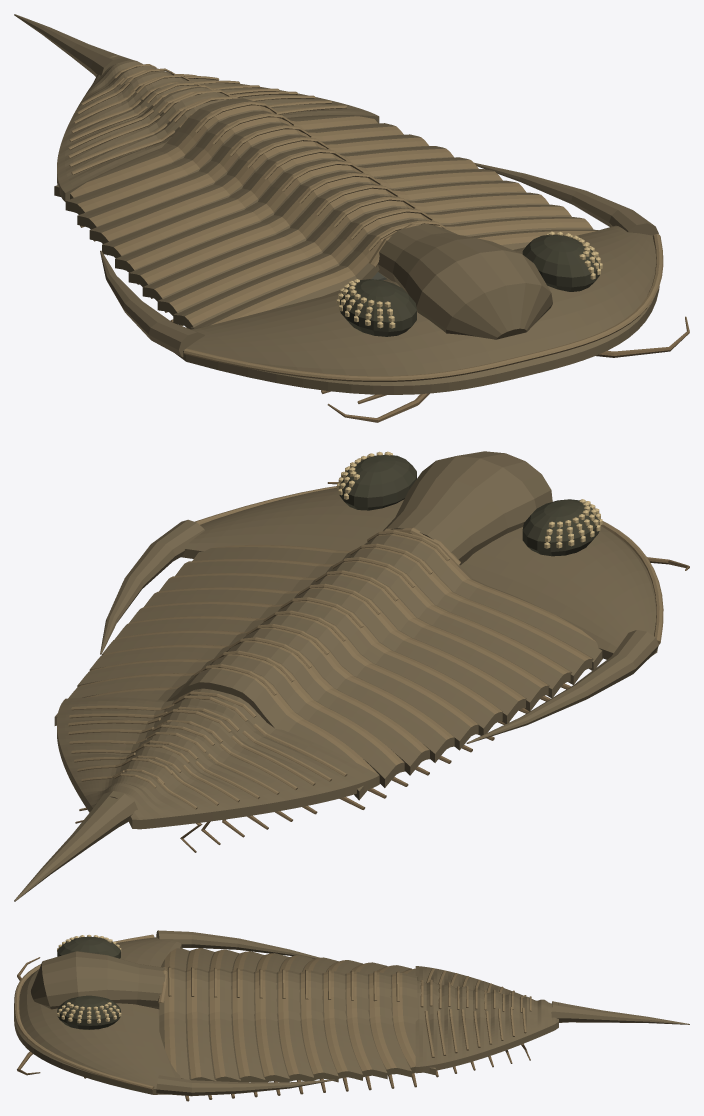
3 views of the same model, one above another, from view 1: azimuth 30°, elevation 25°; view 2: azimuth 150°, elevation 25°; view 3: azimuth 270°, elevation 25° (orthographic). The views are drawn at different scales.
Visible parts, largest first — view 1: dorsal_olive_export, ridges_ochre_export, ocular_cuticle_export, ocular_lenses_export, limbs_umber_export; view 2: dorsal_olive_export, ridges_ochre_export, ocular_cuticle_export, ocular_lenses_export, limbs_umber_export; view 3: dorsal_olive_export, ridges_ochre_export, ocular_cuticle_export, limbs_umber_export, ocular_lenses_export.
Boxes of the visible parts, <box> form: dorsal_olive_export: <box>14,14,659,394</box>; ridges_ochre_export: <box>68,64,663,381</box>; ocular_cuticle_export: <box>340,234,599,336</box>; ocular_lenses_export: <box>336,231,602,328</box>; limbs_umber_export: <box>80,225,689,422</box>; dorsal_olive_export: <box>14,451,658,901</box>; ridges_ochre_export: <box>68,486,663,809</box>; ocular_cuticle_export: <box>339,455,599,556</box>; ocular_lenses_export: <box>337,451,602,548</box>; limbs_umber_export: <box>75,482,689,852</box>; dorsal_olive_export: <box>14,930,689,1096</box>; ridges_ochre_export: <box>14,934,531,1089</box>; ocular_cuticle_export: <box>57,936,120,1029</box>; limbs_umber_export: <box>17,957,530,1101</box>; ocular_lenses_export: <box>57,934,121,1023</box>.
Size of the model in its own units: 0.0341 by 0.00863 by 0.062.
